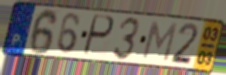2: (170, 22, 200, 67)
3: (113, 15, 141, 61)
6: (27, 7, 60, 56), (55, 11, 82, 56)
M: (140, 20, 180, 63)
P: (81, 13, 117, 58)
